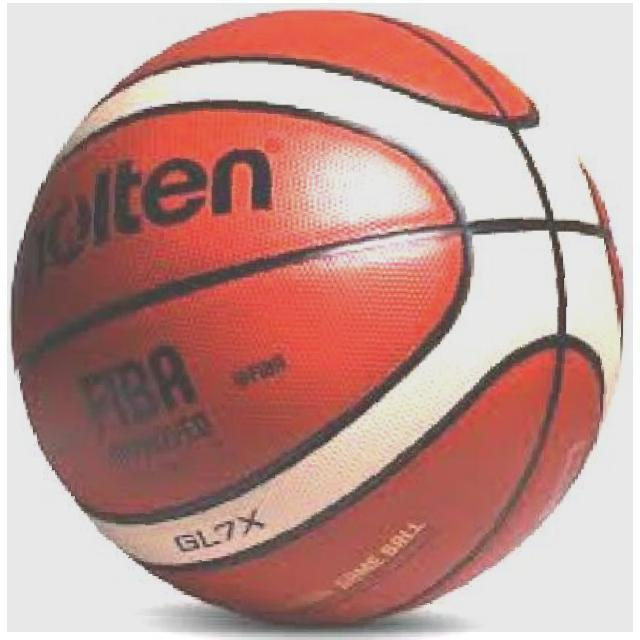Ball: (7, 3, 633, 631)
